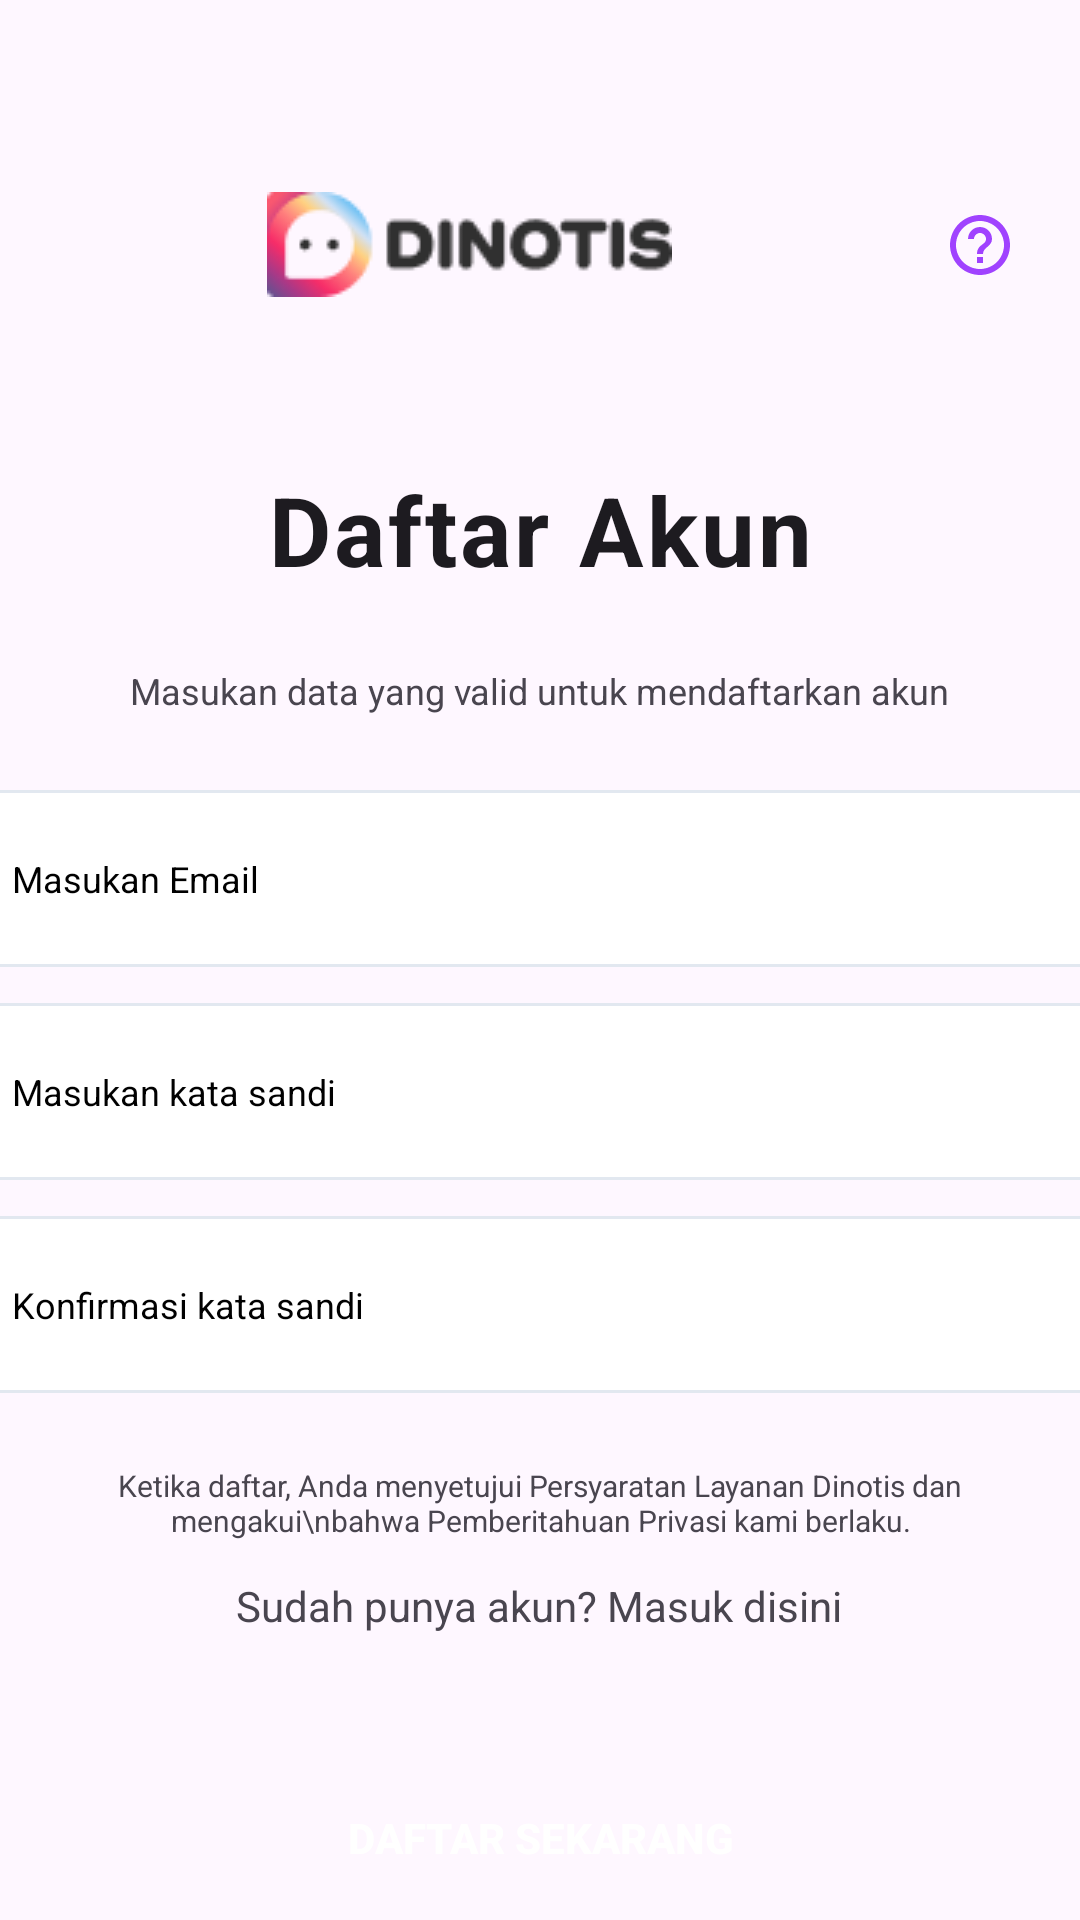

Where icons sit on this 1080w x 1920h app screen, as [x1, y1, x2, y2]:
help: [950, 215, 1010, 275]
